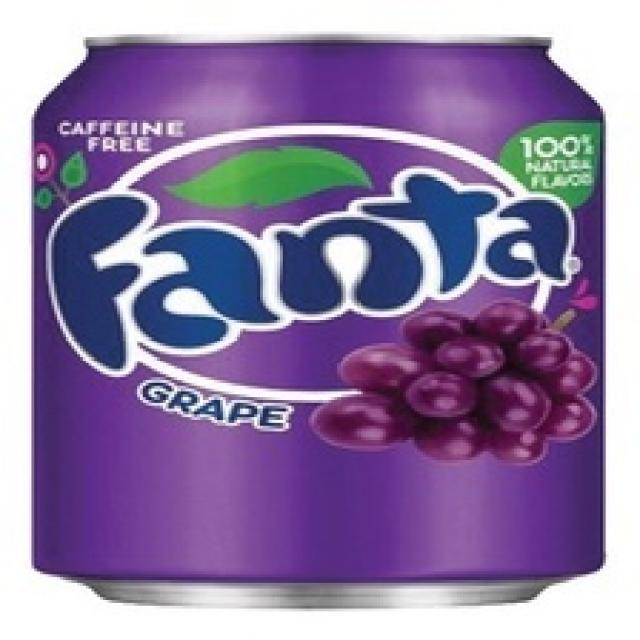recyclable: (33, 35, 604, 610)
